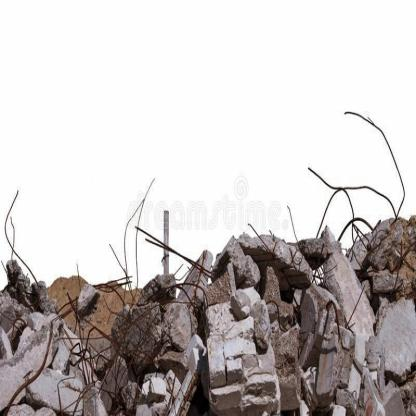rebar: (57, 179, 210, 415), (304, 106, 407, 255), (246, 196, 307, 342), (1, 322, 55, 415), (143, 226, 217, 285), (4, 189, 42, 303), (324, 279, 367, 348), (391, 239, 413, 298), (92, 276, 120, 300)
